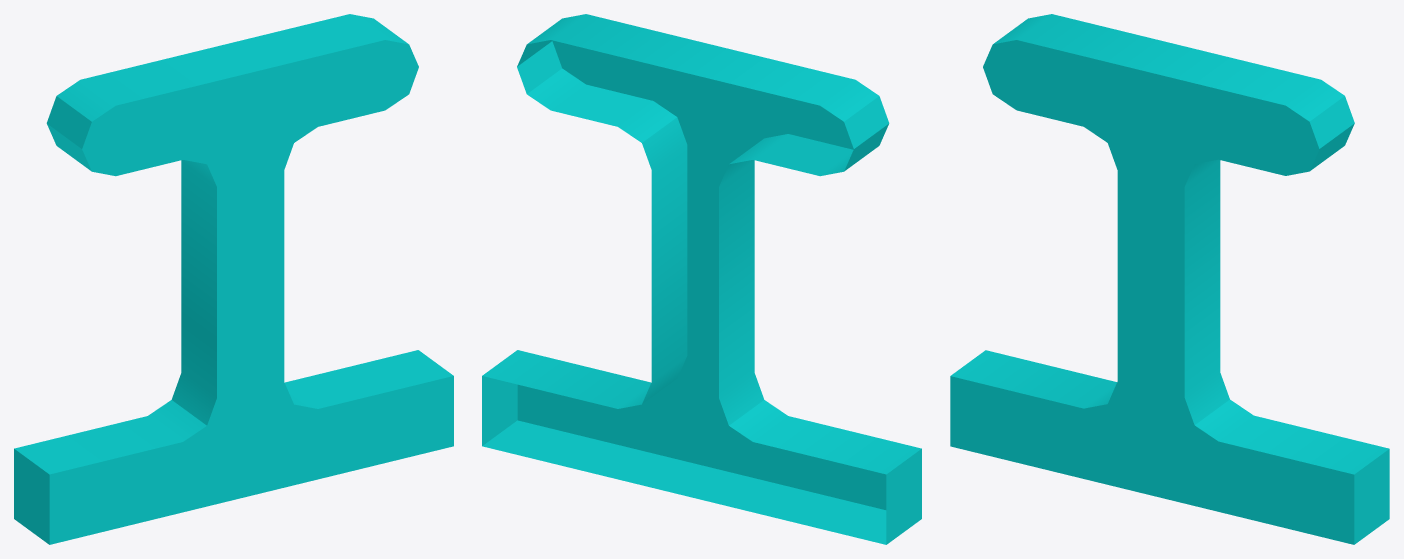
File: T_Blue.glb
3 views of the same model, side by side, from view 1: azimuth 30°, elevation 25°; view 2: azimuth 150°, elevation 25°; view 3: azimuth 330°, elevation 25° (orthographic).
Parts seen in each view (by area): view 1: T; view 2: T; view 3: T.
Boxes of the visible parts, x1,y1,x2,y2 form: T: [14, 14, 453, 544]; T: [482, 14, 921, 544]; T: [950, 14, 1389, 544].
Bounding box in the file's own units: 0.4999 × 0.4998 × 0.0759.
1 material, 1 textured.
